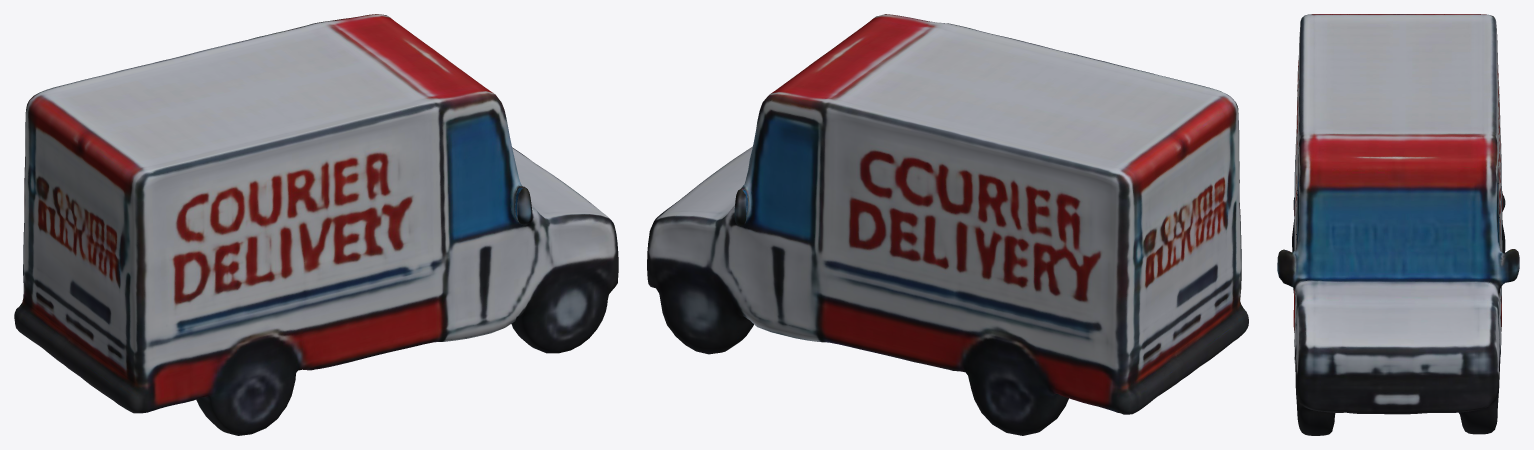
The model's file is bda2455dd129_Courier_delivery_tr.fbx.
The picture shows the model from 3 angles, left to right: view 1: azimuth 30°, elevation 25°; view 2: azimuth 150°, elevation 25°; view 3: azimuth 270°, elevation 25°; orthographic projection. The views are drawn at different scales.
Visible parts, largest first — view 1: mesh; view 2: mesh; view 3: mesh.
Boxes of the visible parts, left/top/right/bottom form: mesh: left=14, top=14, right=618, bottom=435; mesh: left=647, top=14, right=1248, bottom=435; mesh: left=1277, top=14, right=1519, bottom=435.
Bounding box in the file's own units: 99.97 × 55.07 × 49.
